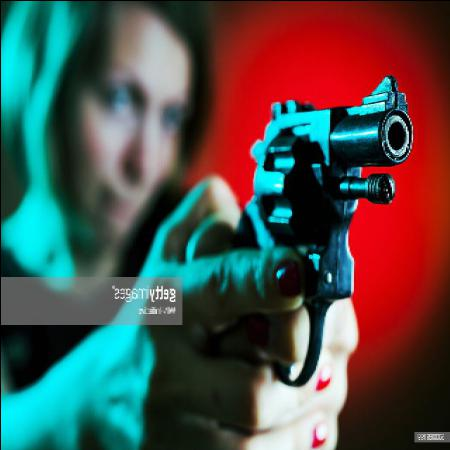Pistol: (244, 69, 424, 391)
